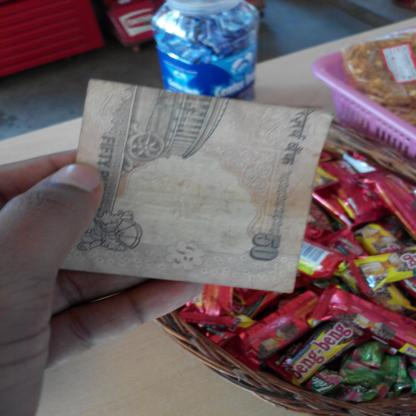Old50Back: (60, 79, 333, 294)
